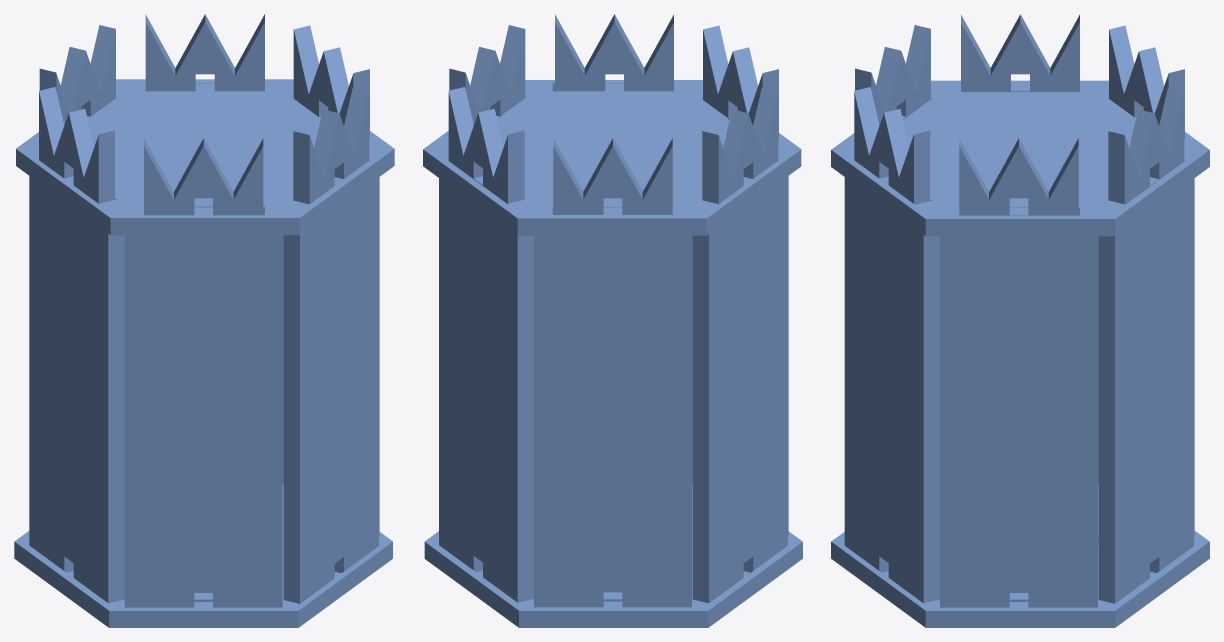
Rendered from Occlusion.fbx.
The picture shows the model from 3 angles, left to right: view 1: azimuth 30°, elevation 25°; view 2: azimuth 150°, elevation 25°; view 3: azimuth 270°, elevation 25°; orthographic projection.
Visible parts, largest first — view 1: mesh1; view 2: mesh1; view 3: mesh1.
Part boxes in pixels (x1,y1,x2,y2): mesh1: (14, 14, 394, 627); mesh1: (423, 14, 802, 627); mesh1: (831, 14, 1209, 627).
Bounding box in the file's own units: 12.7 × 11.05 × 17.72.
